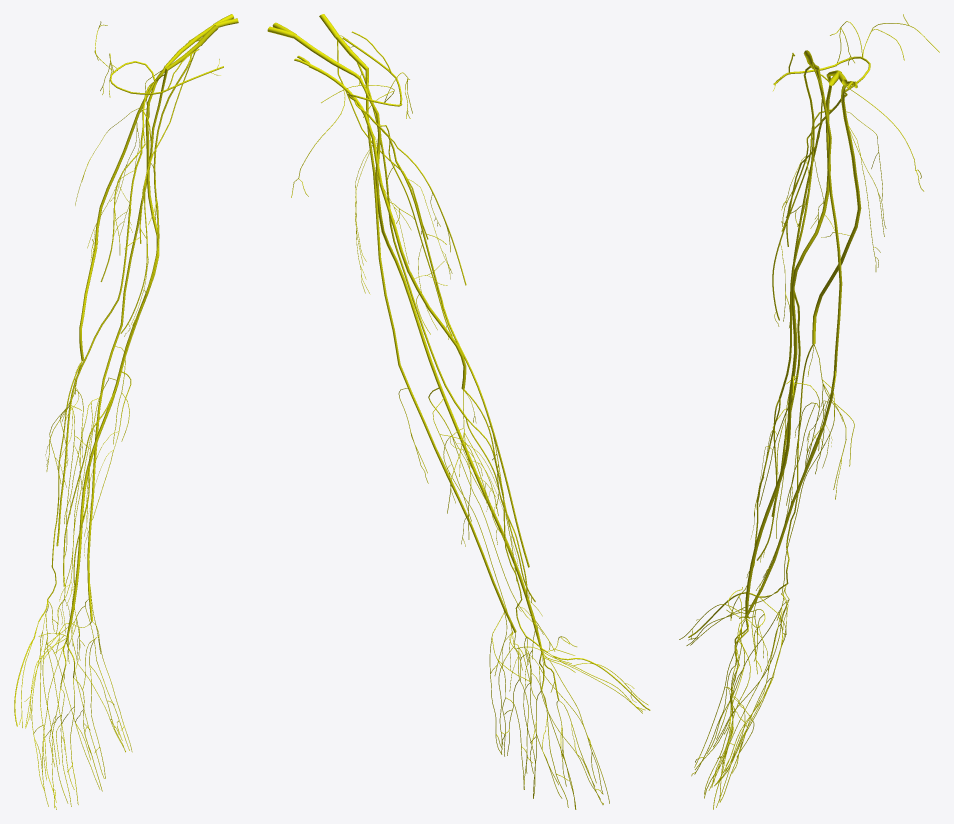
The model's file is Upper limb Nerves.fbx.
3 views of the same model, side by side, from view 1: azimuth 30°, elevation 25°; view 2: azimuth 150°, elevation 25°; view 3: azimuth 270°, elevation 25° (orthographic). The views are drawn at different scales.
Parts seen in each view (by area): view 1: Musculocutaneous_C05_C07, Median_C06_T01, Ulnar_C08_T01, Medial_antebrachial_cutaneous_C08_T06, Dorsal_digital_radial, Radial_C05_T01, Palmar_digital_median, Axillary_C05_C06, Anterior_interosseous, Radial_superficial_branch, Medial_brachial_cutaneous_T01, Posterior_interosseous (+2 smaller); view 2: Musculocutaneous_C05_C07, Median_C06_T01, Ulnar_C08_T01, Radial_C05_T01, Medial_antebrachial_cutaneous_C08_T06, Dorsal_digital_radial, Palmar_digital_median, Axillary_C05_C06, Anterior_interosseous; view 3: Median_C06_T01, Musculocutaneous_C05_C07, Ulnar_C08_T01, Radial_C05_T01, Medial_antebrachial_cutaneous_C08_T06, Dorsal_digital_radial, Palmar_digital_median, Axillary_C05_C06, Radial_superficial_branch, Posterior_interosseous, Anterior_interosseous, Deep_branch_of_radial (+3 smaller).
Boxes of the visible parts, x1,y1,x2,y2 form: Musculocutaneous_C05_C07: (56,82,153,556); Median_C06_T01: (66,83,159,638); Ulnar_C08_T01: (87,68,167,621); Medial_antebrachial_cutaneous_C08_T06: (63,54,191,615); Dorsal_digital_radial: (14,621,100,803); Radial_C05_T01: (75,95,148,360); Palmar_digital_median: (24,638,102,809); Axillary_C05_C06: (94,21,223,97); Anterior_interosseous: (57,377,116,624); Radial_superficial_branch: (38,361,82,635); Medial_brachial_cutaneous_T01: (124,52,195,249); Posterior_interosseous: (56,389,83,634); Musculocutaneous_C05_C07: (354,101,529,581); Median_C06_T01: (366,94,542,652); Ulnar_C08_T01: (365,68,516,632); Radial_C05_T01: (355,114,466,389); Medial_antebrachial_cutaneous_C08_T06: (357,63,542,621); Dorsal_digital_radial: (523,652,650,809); Palmar_digital_median: (530,652,648,809); Axillary_C05_C06: (321,31,412,118); Anterior_interosseous: (432,397,543,642); Median_C06_T01: (745,86,831,614); Musculocutaneous_C05_C07: (771,91,847,538); Ulnar_C08_T01: (744,66,842,618); Radial_C05_T01: (812,101,886,344); Medial_antebrachial_cutaneous_C08_T06: (746,66,814,577); Dorsal_digital_radial: (688,592,782,807); Palmar_digital_median: (679,604,752,809); Axillary_C05_C06: (773,14,939,91); Radial_superficial_branch: (774,344,813,623); Posterior_interosseous: (780,379,834,643); Anterior_interosseous: (755,383,819,602); Deep_branch_of_radial: (807,344,854,499).
Size of the model in its own units: 30.69 by 73.49 by 20.34.
